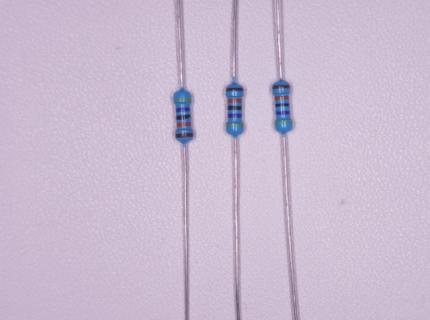Black band: (176, 115, 190, 120), (228, 105, 241, 110), (276, 104, 289, 107)
Brown band: (176, 133, 193, 138), (272, 84, 289, 89), (226, 88, 244, 91)
Orange band: (177, 122, 191, 127), (275, 96, 289, 101), (228, 99, 242, 103)
Violet band: (176, 107, 190, 112), (228, 113, 242, 118), (276, 111, 290, 115)
Yellow band: (226, 123, 244, 127), (174, 98, 191, 102), (275, 121, 292, 125)
